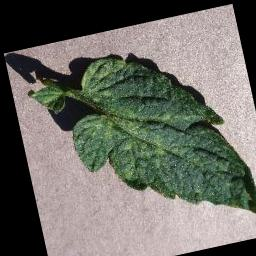Leaf_Mold: (58, 29, 256, 252)
